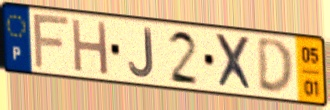2: (166, 29, 200, 88)
D: (255, 37, 296, 98)
F: (31, 13, 72, 71)
H: (70, 16, 111, 78)
J: (127, 26, 155, 80)
X: (212, 32, 256, 94)
